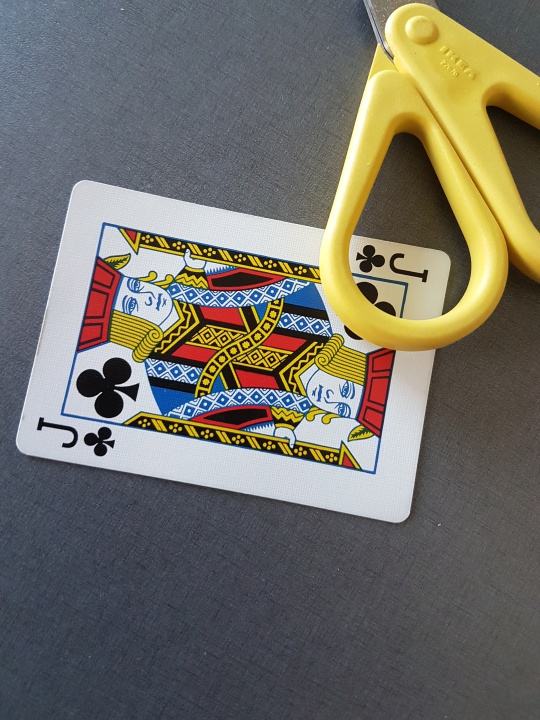jack: (11, 180, 468, 531)
